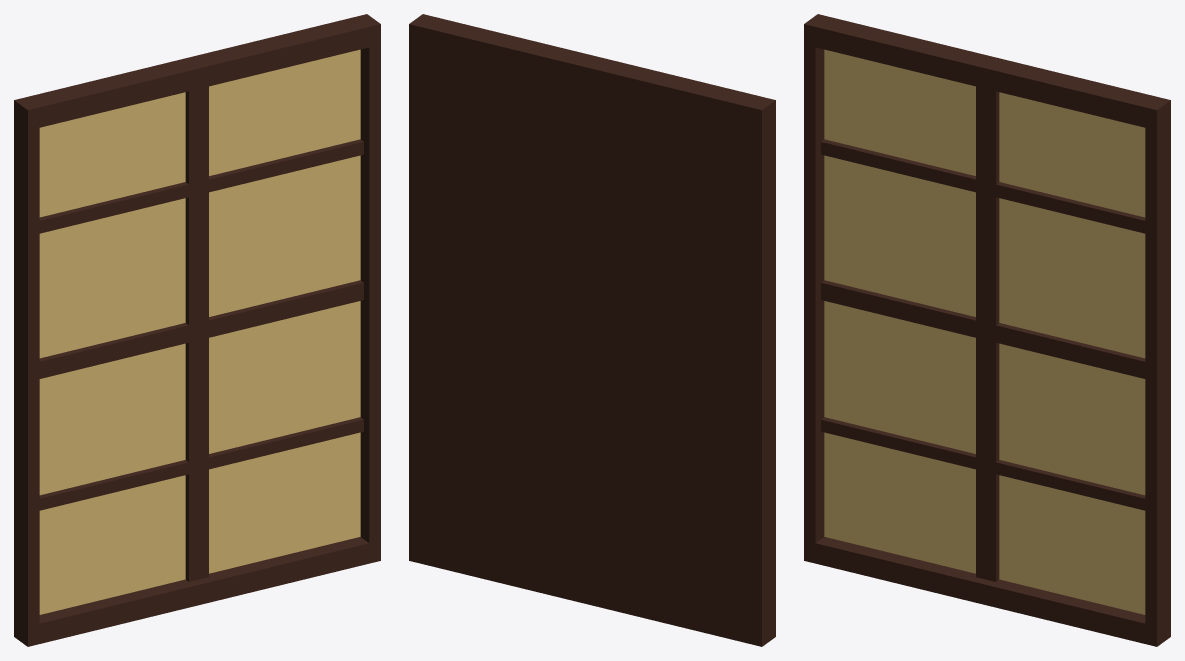
Rendered from window.fbx.
3 renders of one model, left to right at view 1: azimuth 30°, elevation 25°; view 2: azimuth 150°, elevation 25°; view 3: azimuth 330°, elevation 25°, orthographic.
Visible parts, largest first — view 1: pCube1; view 2: pCube1; view 3: pCube1.
Boxes of the visible parts, x1,y1,x2,y2 form: pCube1: (14, 14, 380, 646); pCube1: (409, 14, 775, 646); pCube1: (804, 14, 1170, 646).
Size of the model in its own units: 1 by 1.45 by 0.0678.
